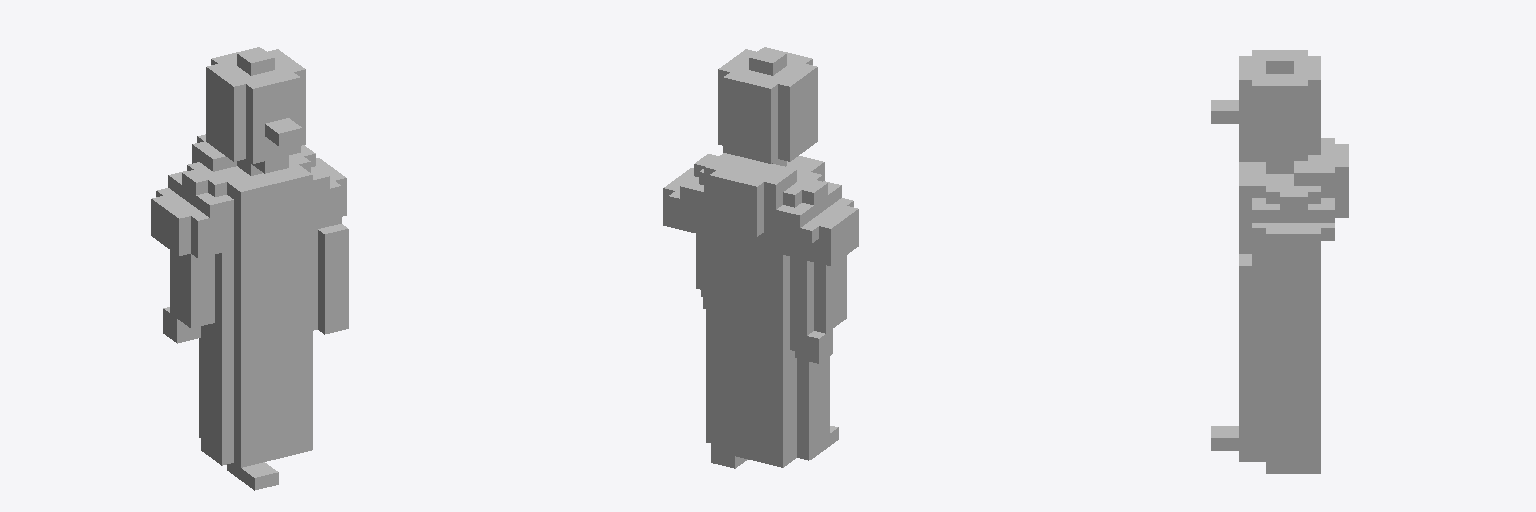
File: Monkv2 8.obj
3 renders of one model, left to right at view 1: azimuth 30°, elevation 25°; view 2: azimuth 150°, elevation 25°; view 3: azimuth 270°, elevation 25°, orthographic.
Parts seen in each view (by area): view 1: Monkv2 8; view 2: Monkv2 8; view 3: Monkv2 8.
Boxes of the visible parts, <box> form: Monkv2 8: <box>151,47,348,490</box>; Monkv2 8: <box>663,47,858,468</box>; Monkv2 8: <box>1211,50,1348,473</box>.
Size of the model in its own units: 0.7 by 1.6 by 0.5.